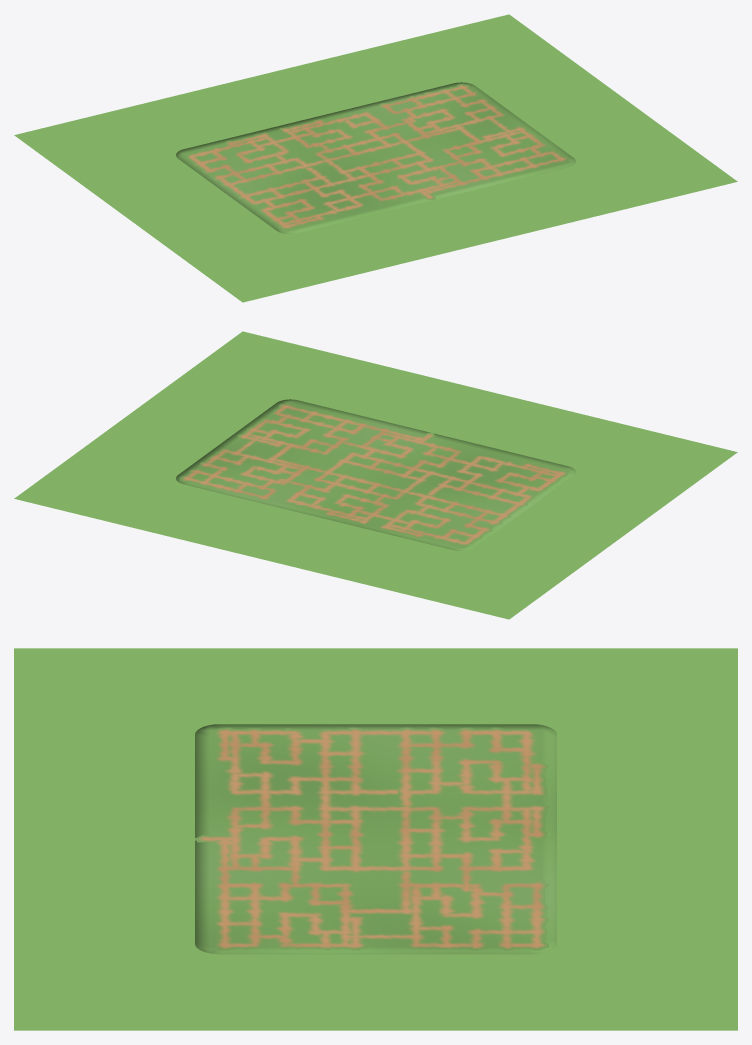
File: explore_ground_150_v3.glb
3 views of the same model, one above another, from view 1: azimuth 30°, elevation 25°; view 2: azimuth 150°, elevation 25°; view 3: azimuth 270°, elevation 25° (orthographic). The views are drawn at different scales.
Visible parts, largest first — view 1: outer_grass, field_slab, soil_zone4, soil_zone2, soil_zone3, soil_zone6, soil_zone1, soil_zone5, soil_link_5_6; view 2: outer_grass, field_slab, soil_zone4, soil_zone3, soil_zone6, soil_zone2, soil_zone1, soil_zone5, soil_link_5_6; view 3: outer_grass, field_slab, soil_zone4, soil_zone2, soil_zone3, soil_zone6, soil_zone1, soil_zone5, soil_link_5_6, soil_link_1_2, soil_link_1_5, soil_link_3_4 (+3 smaller).
Part boxes in pixels (x1=…): outer_grass: x1=14, y1=14, x2=737, y2=302; field_slab: x1=176, y1=82, x2=575, y2=233; soil_zone4: x1=186, y1=132, x2=307, y2=187; soil_zone2: x1=279, y1=111, x2=406, y2=161; soil_zone3: x1=238, y1=175, x2=365, y2=229; soil_zone6: x1=377, y1=84, x2=506, y2=139; soil_zone1: x1=337, y1=150, x2=469, y2=202; soil_zone5: x1=440, y1=126, x2=569, y2=181; soil_link_5_6: x1=454, y1=115, x2=517, y2=145; outer_grass: x1=14, y1=331, x2=737, y2=619; field_slab: x1=176, y1=399, x2=575, y2=550; soil_zone4: x1=378, y1=496, x2=510, y2=545; soil_zone3: x1=435, y1=454, x2=568, y2=506; soil_zone6: x1=180, y1=448, x2=312, y2=500; soil_zone2: x1=284, y1=472, x2=406, y2=524; soil_zone1: x1=336, y1=427, x2=464, y2=481; soil_zone5: x1=237, y1=403, x2=368, y2=455; soil_link_5_6: x1=230, y1=434, x2=303, y2=461; outer_grass: x1=14, y1=648, x2=737, y2=1030; field_slab: x1=195, y1=724, x2=556, y2=954; soil_zone4: x1=394, y1=727, x2=548, y2=796; soil_zone2: x1=394, y1=805, x2=548, y2=873; soil_zone3: x1=213, y1=727, x2=367, y2=797; soil_zone6: x1=394, y1=880, x2=548, y2=950; soil_zone1: x1=195, y1=804, x2=367, y2=873; soil_zone5: x1=213, y1=881, x2=367, y2=950; soil_link_5_6: x1=337, y1=903, x2=424, y2=940; soil_link_1_2: x1=346, y1=805, x2=414, y2=871; soil_link_1_5: x1=217, y1=860, x2=305, y2=889; soil_link_3_4: x1=346, y1=729, x2=414, y2=796.
Size of the model in its own units: 180 by 0.406 by 144.
